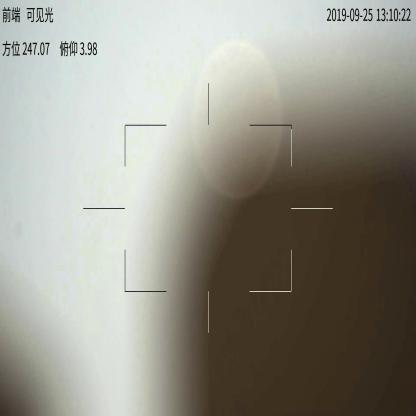uav: (171, 182, 181, 197)
